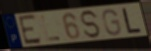6: (61, 12, 81, 41)
E: (17, 13, 43, 46)
G: (102, 8, 123, 37)
L: (40, 15, 62, 43), (121, 7, 143, 35)
S: (80, 9, 102, 40)
